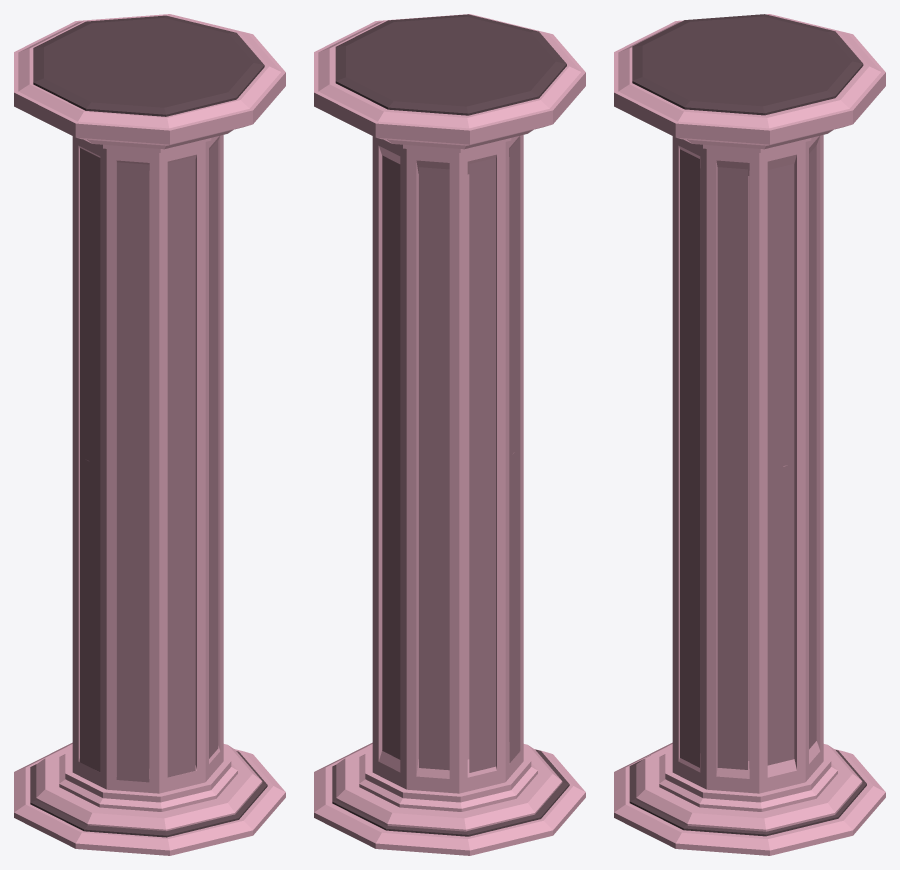
Rendered from Column_2.fbx.
3 views of the same model, side by side, from view 1: azimuth 30°, elevation 25°; view 2: azimuth 150°, elevation 25°; view 3: azimuth 270°, elevation 25° (orthographic).
Parts seen in each view (by area): view 1: Cylinder.018, Cylinder.021, Cylinder.020, Cylinder.023; view 2: Cylinder.018, Cylinder.021, Cylinder.020, Cylinder.023; view 3: Cylinder.018, Cylinder.021, Cylinder.020, Cylinder.023.
Boxes of the visible parts, x1=… form: Cylinder.018: x1=14, y1=14, x2=285, y2=855; Cylinder.021: x1=80, y1=140, x2=218, y2=782; Cylinder.020: x1=33, y1=15, x2=264, y2=116; Cylinder.023: x1=30, y1=751, x2=267, y2=837; Cylinder.018: x1=314, y1=14, x2=585, y2=855; Cylinder.021: x1=382, y1=137, x2=520, y2=772; Cylinder.020: x1=335, y1=14, x2=566, y2=115; Cylinder.023: x1=332, y1=749, x2=569, y2=836; Cylinder.018: x1=614, y1=14, x2=885, y2=855; Cylinder.021: x1=680, y1=146, x2=816, y2=769; Cylinder.020: x1=632, y1=14, x2=863, y2=115; Cylinder.023: x1=629, y1=750, x2=866, y2=836.
Bounding box in the file's own units: 197 × 579 × 194.
